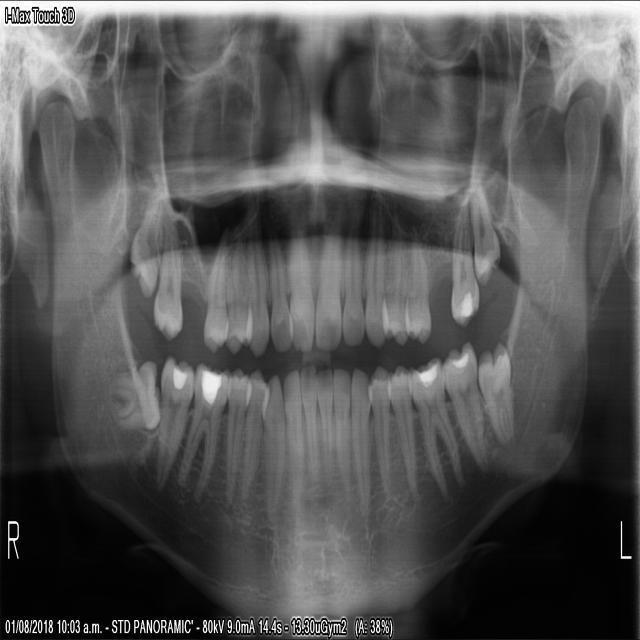LCD: (349, 368, 372, 517)
LCU: (365, 219, 387, 347)
LID: (333, 369, 352, 500), (317, 367, 335, 484)
LIU: (314, 228, 343, 359), (343, 228, 364, 353)
LMD: (404, 350, 464, 504), (441, 335, 491, 474), (478, 338, 516, 449)
LMU: (449, 204, 483, 332), (467, 184, 502, 292)
LPMD: (385, 362, 416, 497), (367, 369, 391, 499)
LPMU: (405, 235, 432, 344), (380, 234, 405, 349)
RCD: (261, 367, 286, 519)
RCU: (242, 223, 269, 359)
RID: (282, 364, 305, 489), (299, 364, 321, 482)
RIU: (286, 204, 314, 350), (264, 223, 291, 357)
RMD: (176, 360, 230, 500), (150, 355, 194, 495), (105, 358, 159, 432)
RMU: (150, 214, 184, 345), (125, 203, 164, 299)
RPMD: (224, 364, 250, 513), (240, 374, 270, 500)
RPMU: (224, 235, 250, 352), (204, 235, 227, 353)
